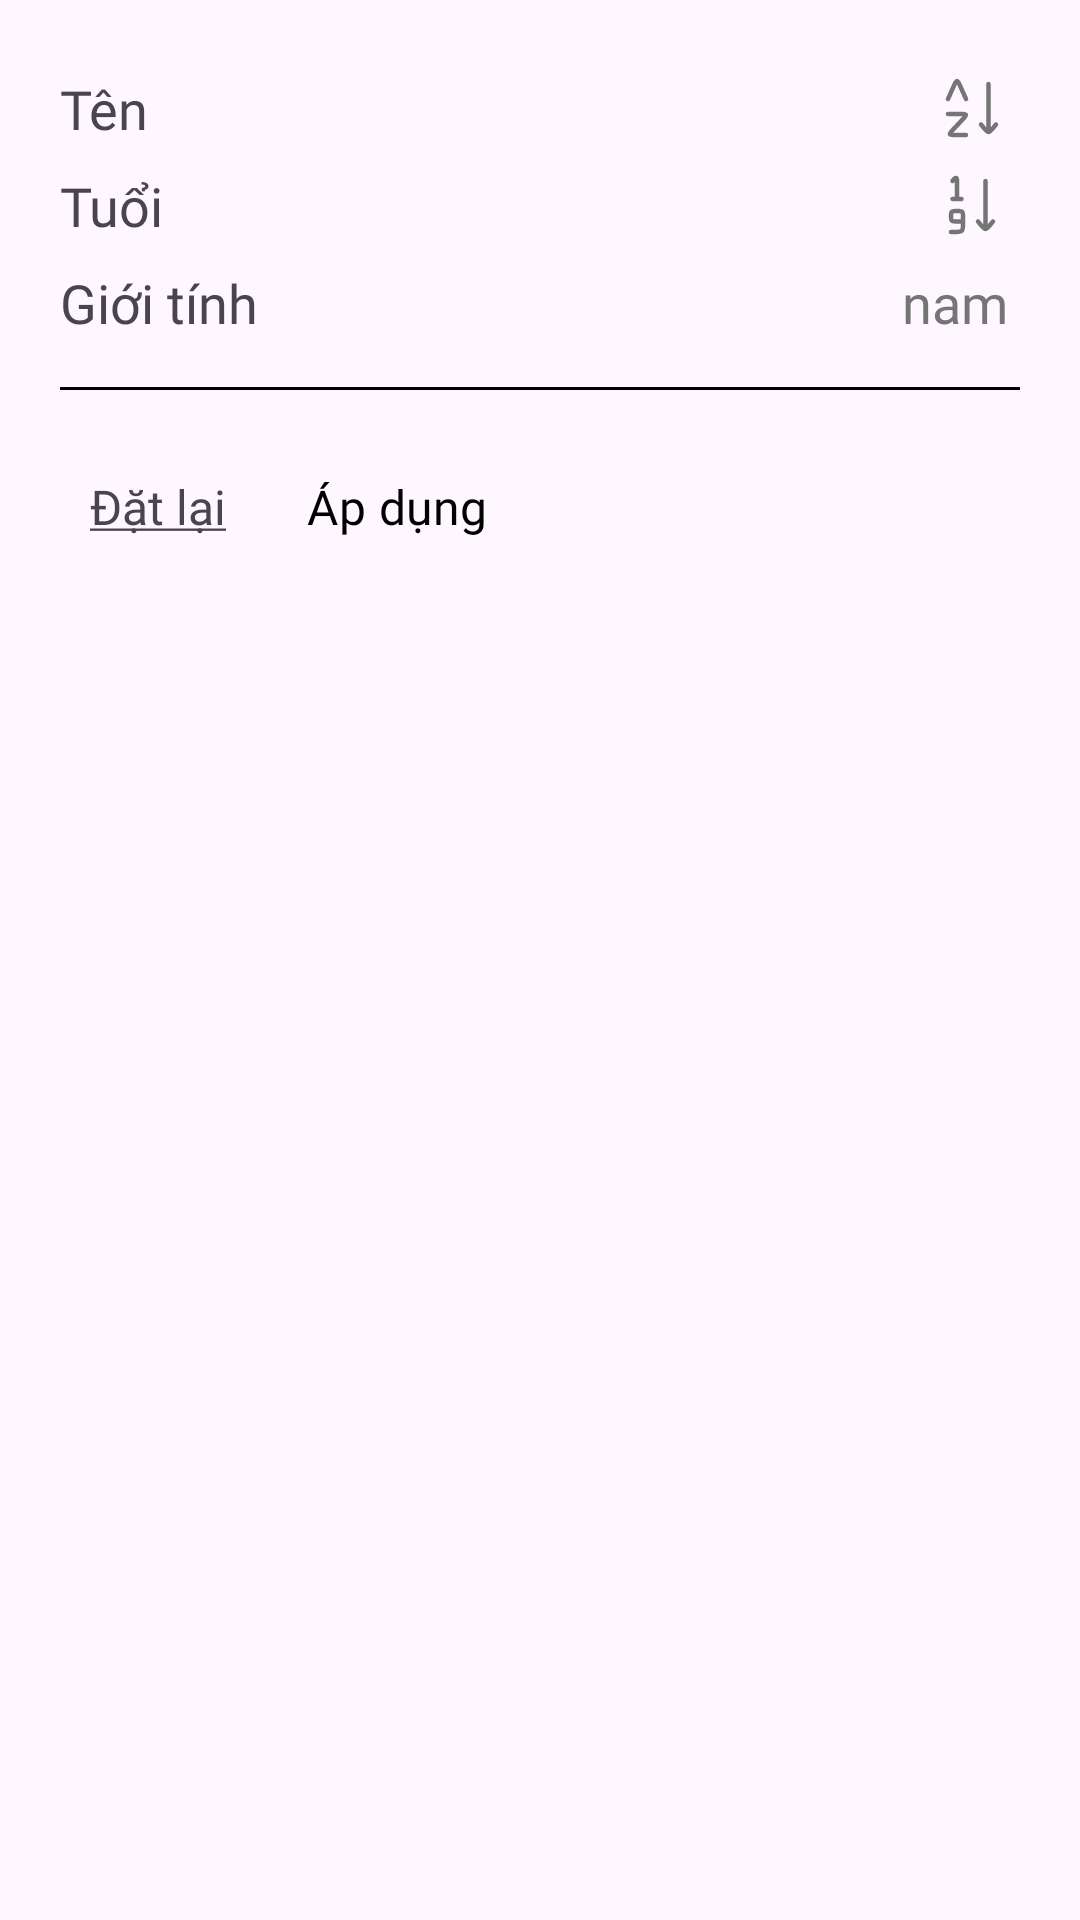

Screen size 1080 × 1920. Icon name, then its box in pixels as detection(x1, y1, x2, y2):
sort: detection(948, 175, 996, 235)
sort az: detection(945, 79, 999, 138)
